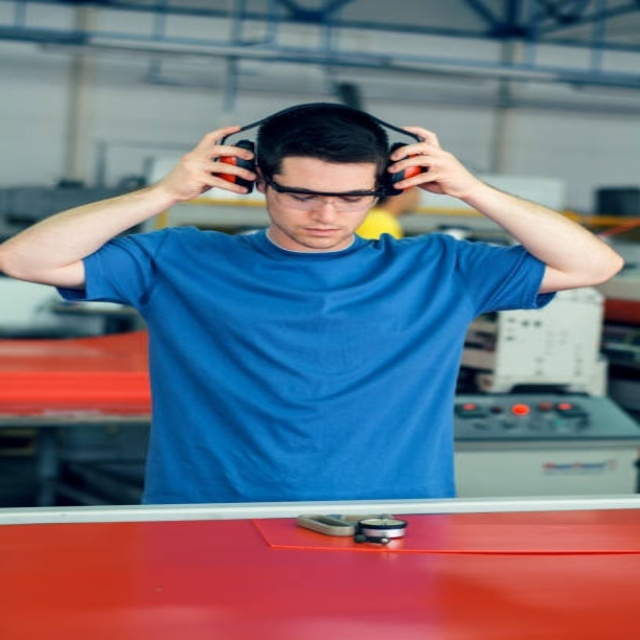Gafas: (265, 178, 389, 206)
Sin_guantes: (163, 122, 256, 201), (389, 121, 474, 196)
Sin_mascara: (289, 220, 355, 246)
